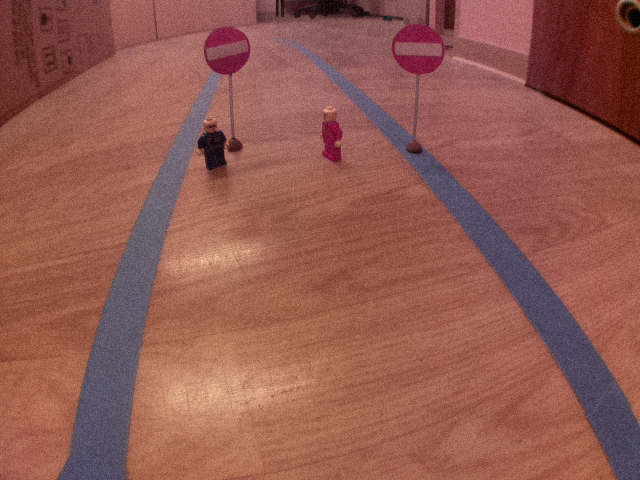LEGO_person: (194, 114, 229, 172), (317, 103, 347, 166)
zakaz: (390, 21, 448, 79), (202, 23, 253, 79)
